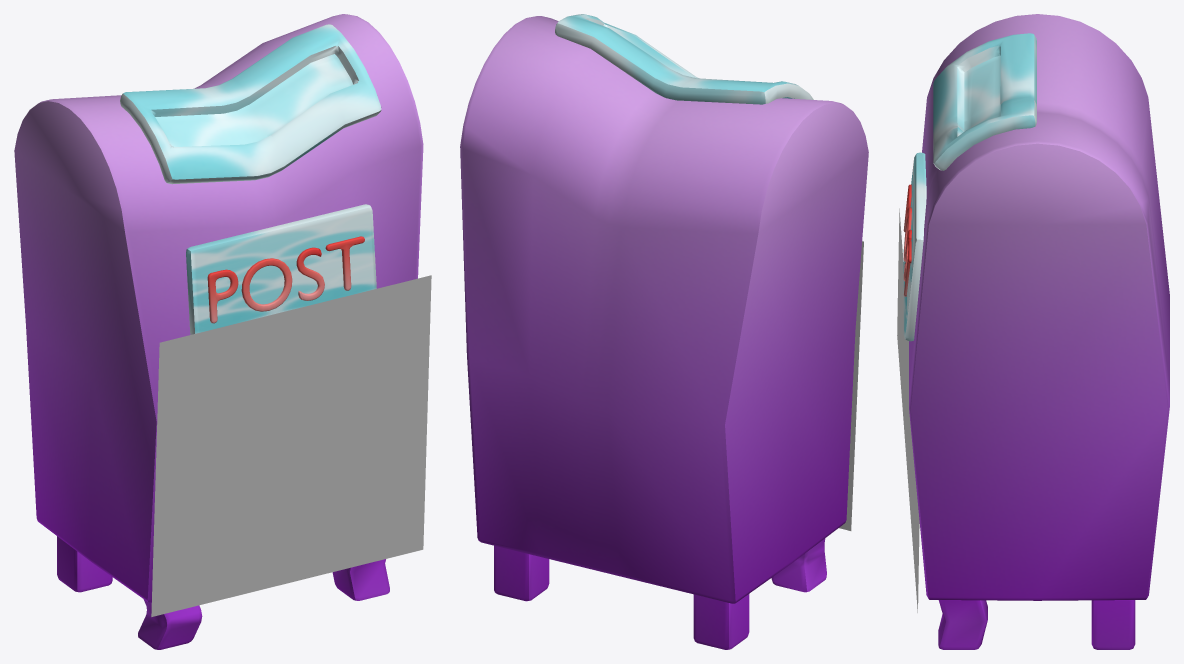
The model's file is Mailbox_B_purple.fbx.
3 views of the same model, side by side, from view 1: azimuth 30°, elevation 25°; view 2: azimuth 150°, elevation 25°; view 3: azimuth 270°, elevation 25° (orthographic).
Visible parts, largest first — view 1: MailboxB_purple; view 2: MailboxB_purple; view 3: MailboxB_purple.
Part boxes in pixels (x1=…): MailboxB_purple: x1=14, y1=14, x2=431, y2=649; MailboxB_purple: x1=460, y1=14, x2=868, y2=649; MailboxB_purple: x1=897, y1=14, x2=1169, y2=649.
Bounding box in the file's own units: 1.37 × 1.09 × 2.35.
